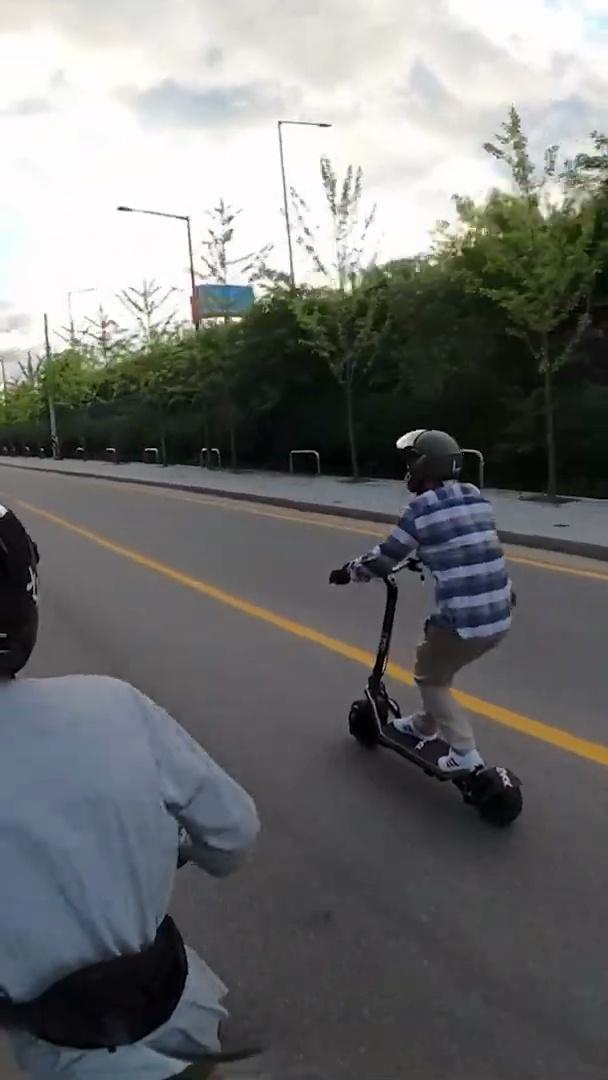helmet: (323, 418, 532, 839)
